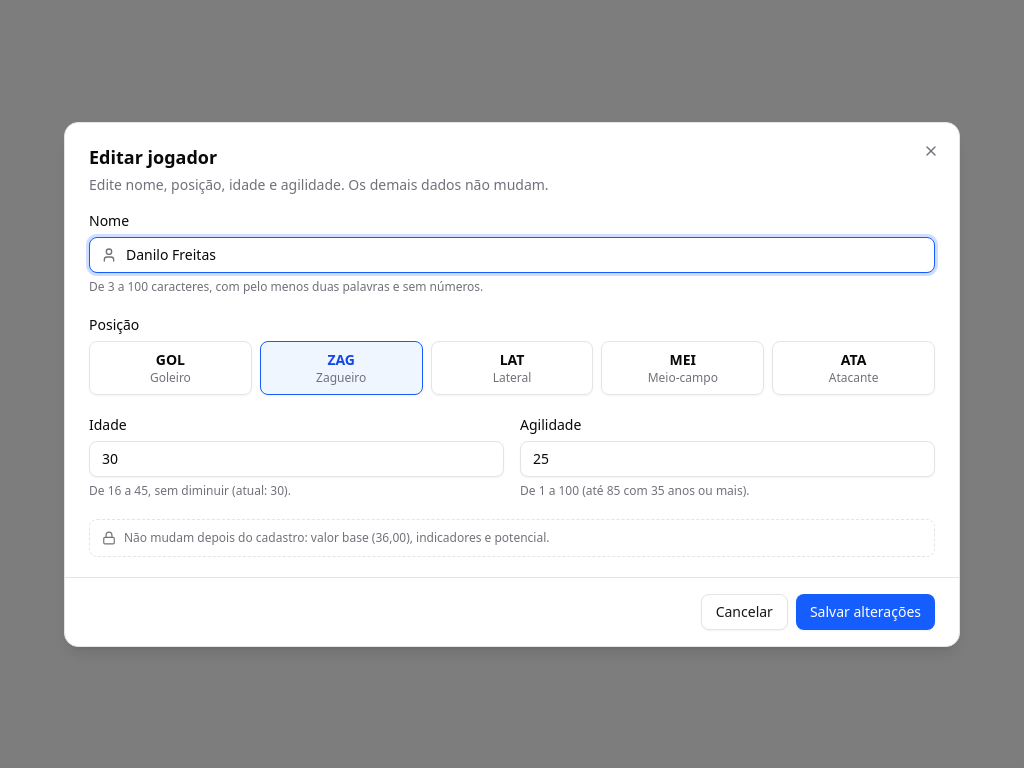
PlayerEditDialog › mostra o message da API quando a edição é recusada
The width and height of the screenshot is (1024, 768).
Step 1. Click the button "Salvar alterações" → click(865, 612), box [796,594,935,630]
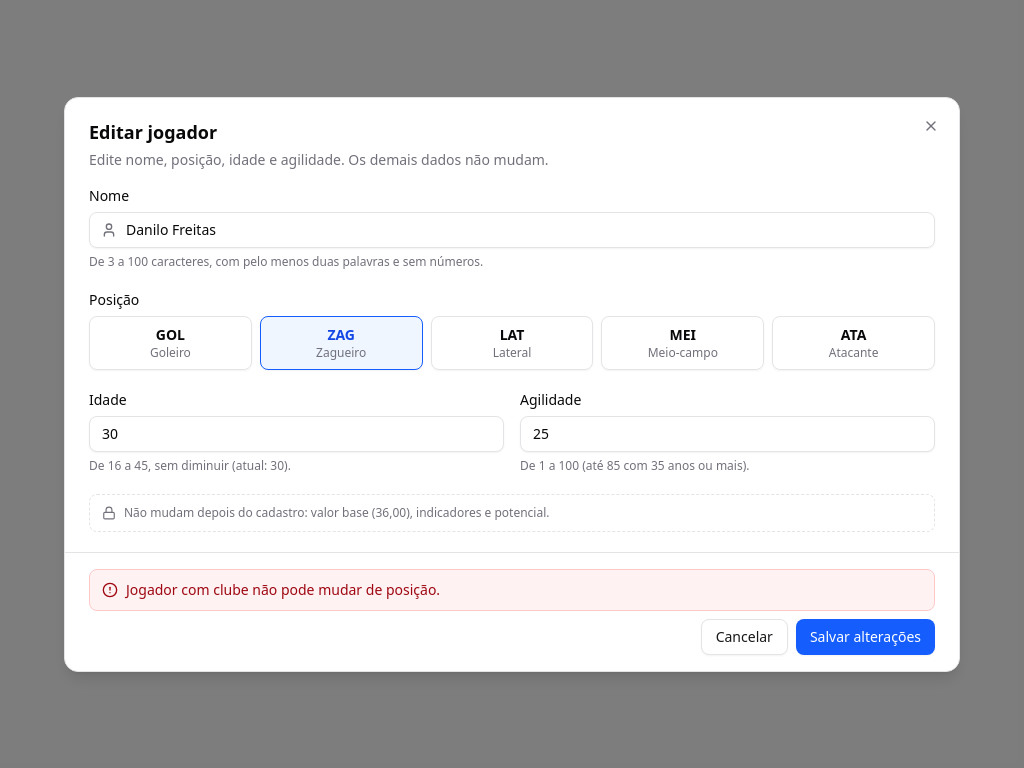
Check: the message reads "Jogador com clube não pode mudar de posição.", box [126,580,440,598]
